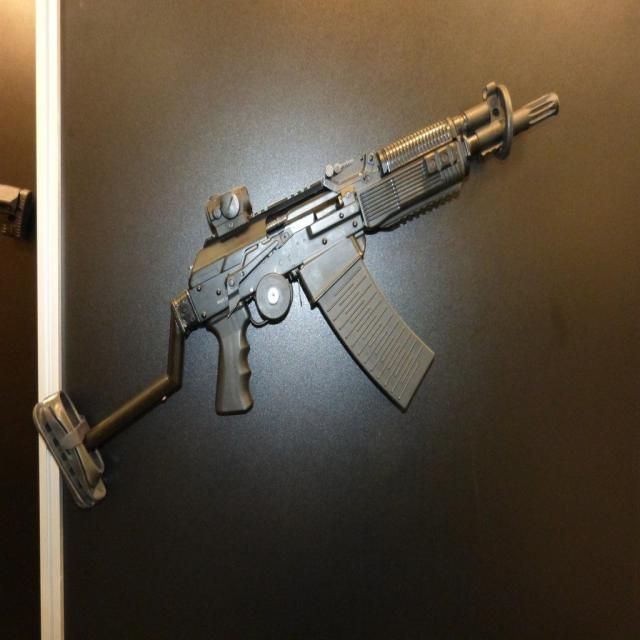firearm: (34, 80, 560, 510)
